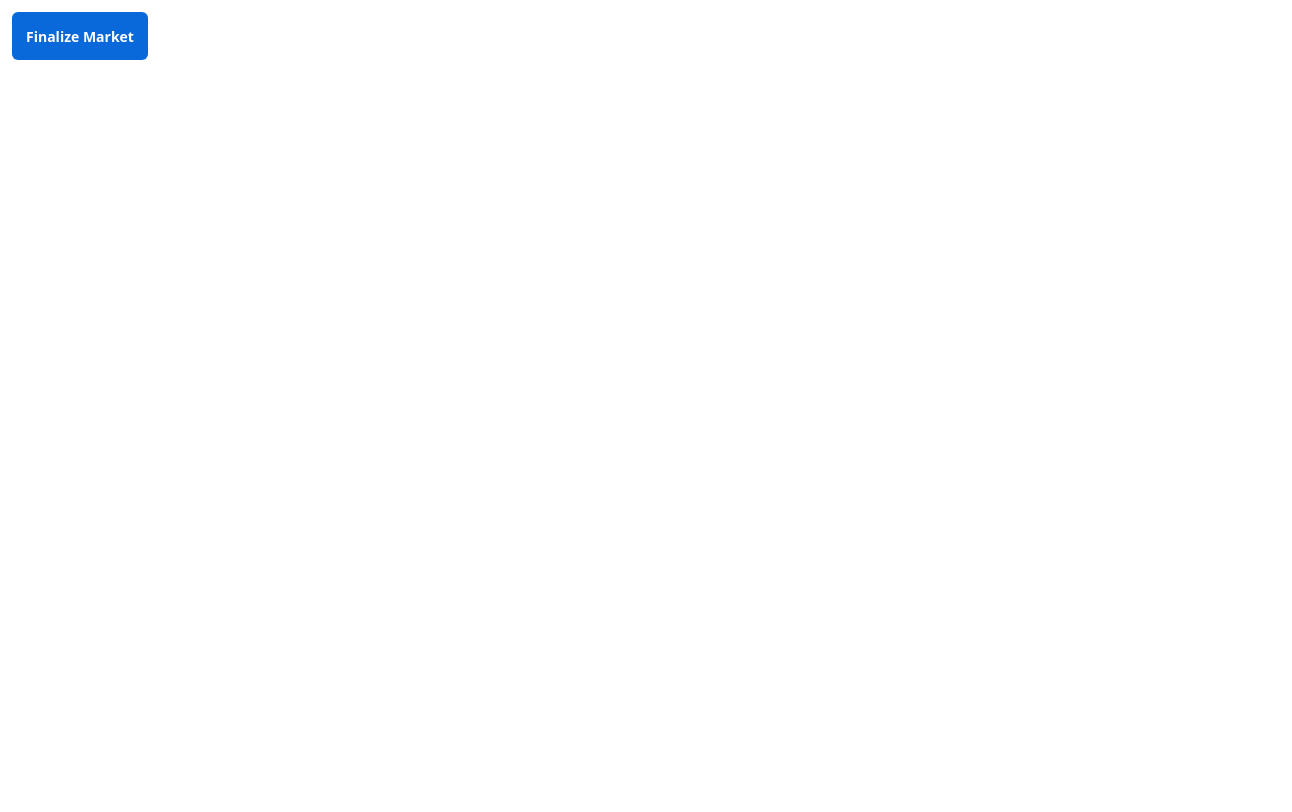
Scenario: FinalizeMarketButton › finalizes on Soroban, celebrates and reports the result
Click the button "Finalize Market".
click(80, 36)  # box left=12, top=12, right=148, bottom=60
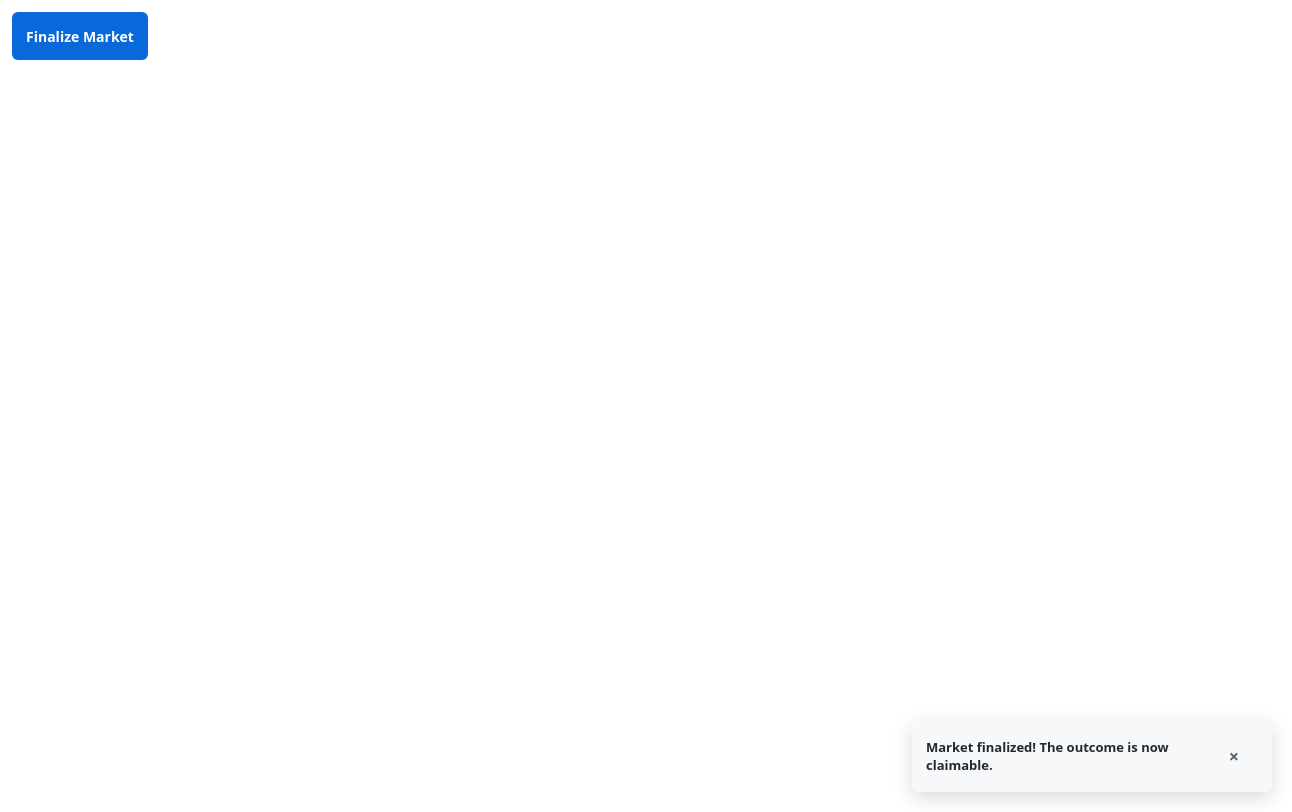
Expected: the text "Market finalized! The outcome is now claimable." is shown, left=926, top=738, right=1198, bottom=774
